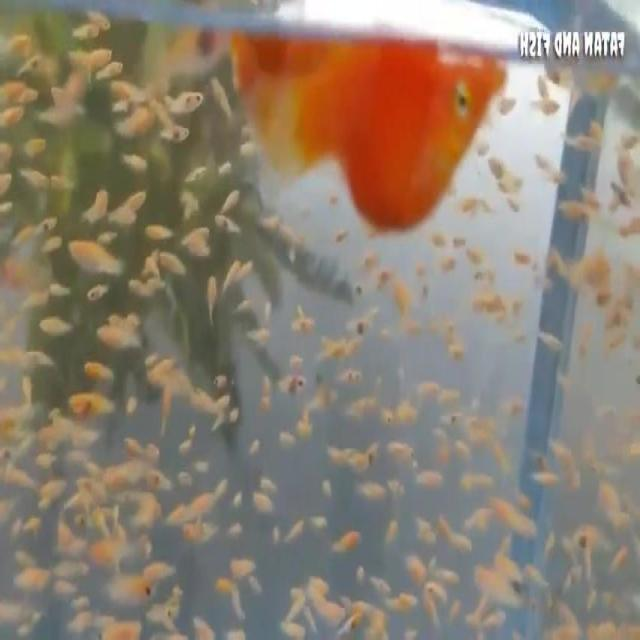PlatyFish: (241, 48, 513, 236)
